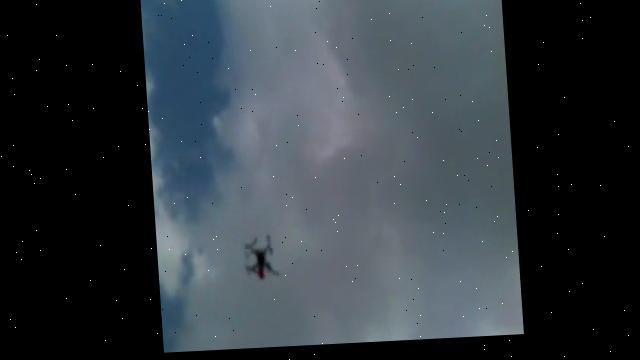drone: (235, 236, 279, 284)
